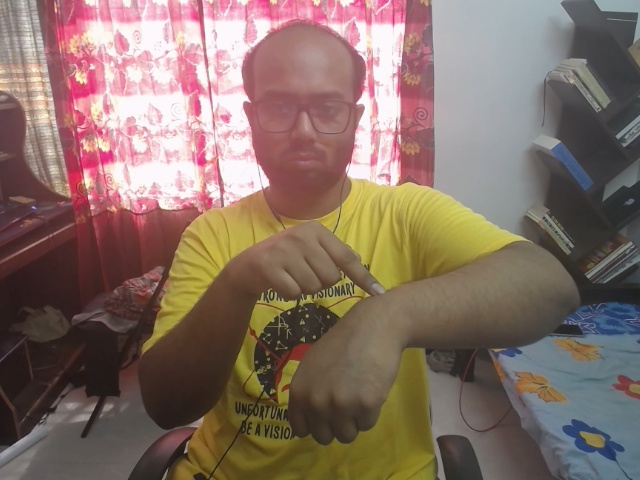time: (130, 200, 456, 449)
